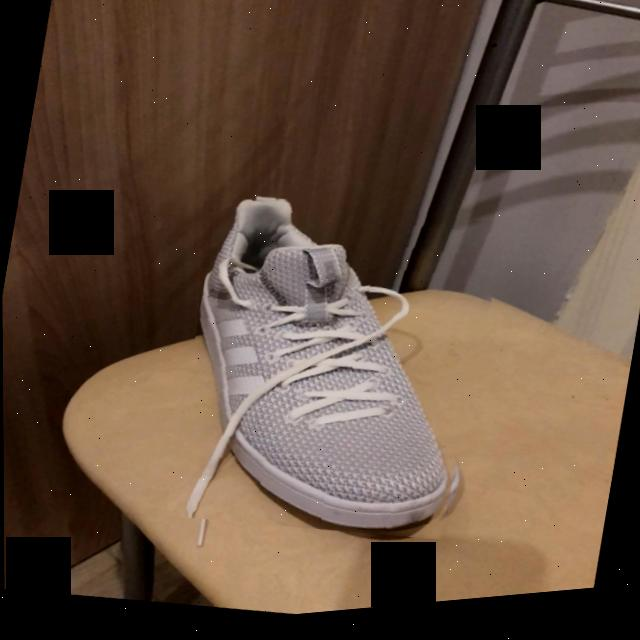shoe: (193, 203, 452, 542)
